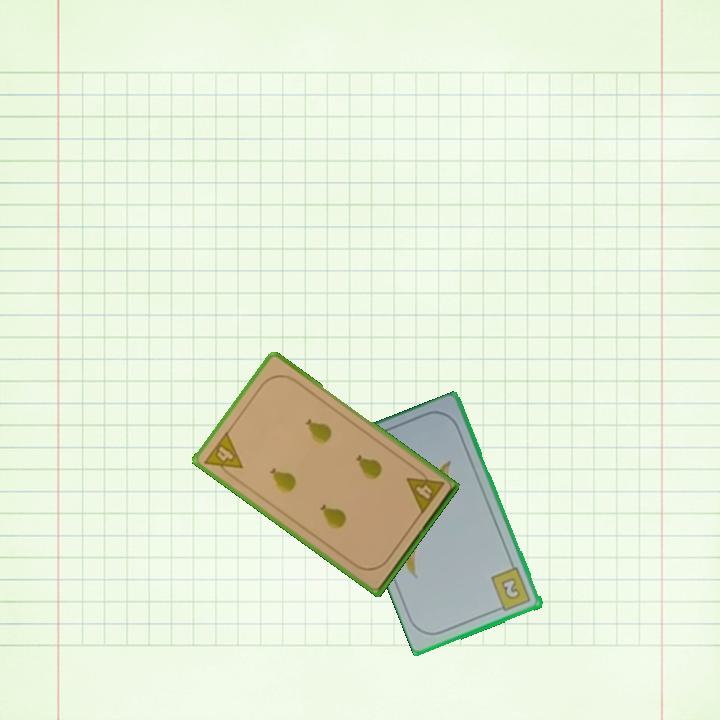2b: (488, 564, 534, 614)
4p: (200, 428, 246, 482), (403, 464, 447, 517)
